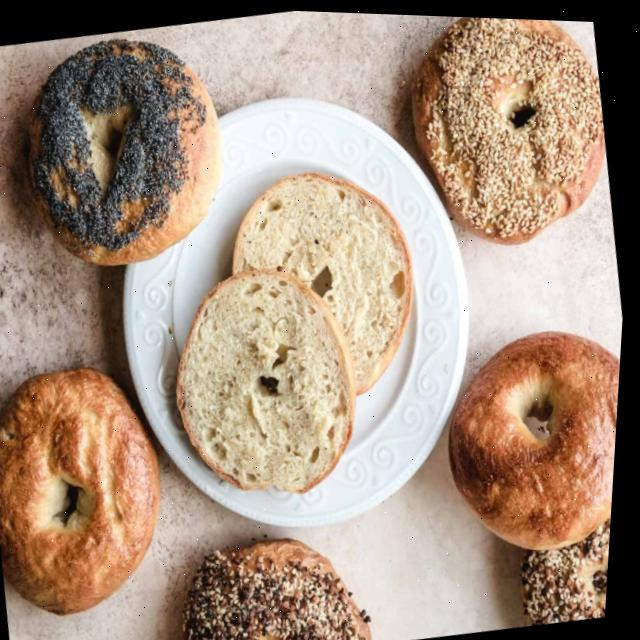Bagel: (412, 13, 607, 241), (0, 367, 165, 615), (180, 267, 360, 491), (235, 170, 416, 392), (453, 327, 624, 546)
